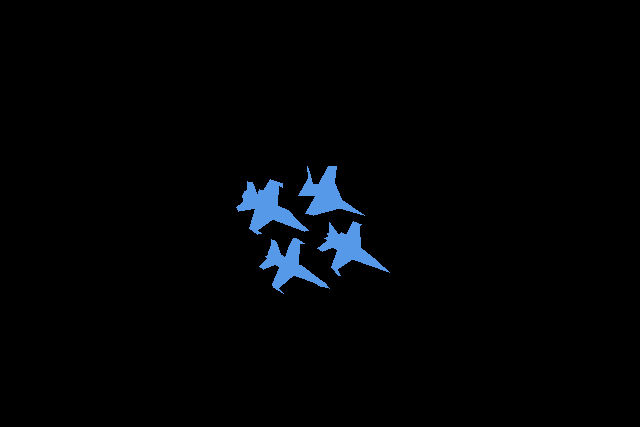Airplane: (236, 179, 308, 235), (317, 221, 389, 276), (259, 238, 330, 293), (298, 166, 365, 215)
